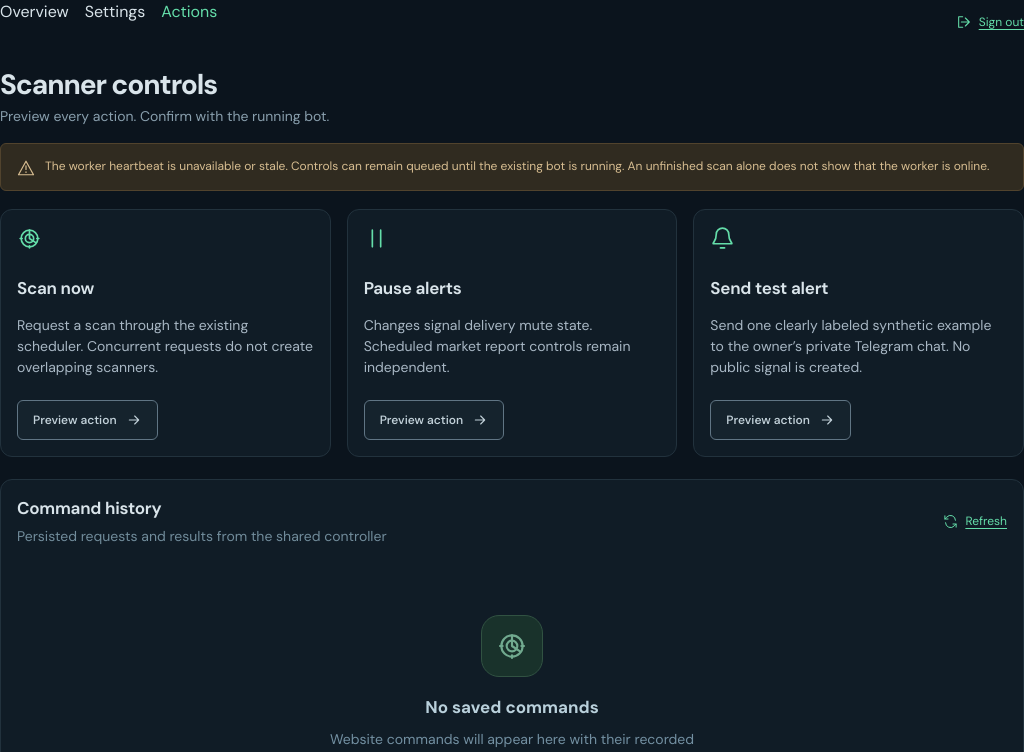
Scenario: detects a concurrent Telegram revision before allowing confirmation
Expected: the heading "Scanner controls" is shown, x1=0 y1=66 x2=217 y2=103
Click the button "Preview action" below "Scan now". click: point(87, 420)
box: x1=17 y1=400 x2=158 y2=440
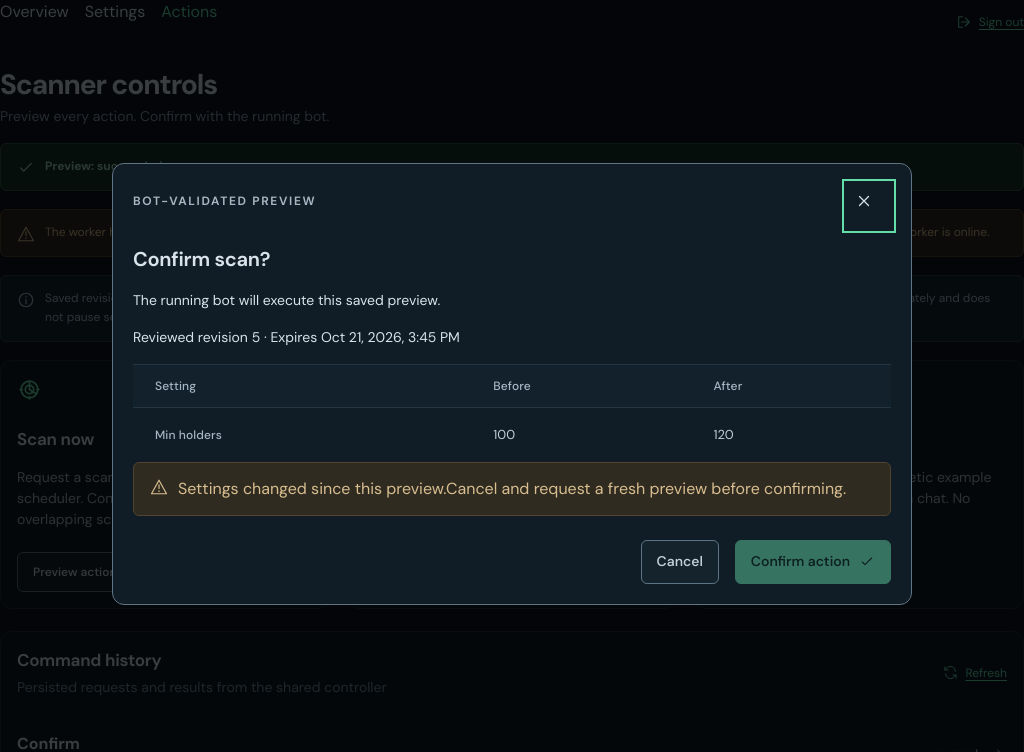
Now the text "Settings changed since this preview" is shown, box x1=178 y1=478 x2=446 y2=498
Now the button "Confirm action" is disabled, box x1=735 y1=540 x2=891 y2=584
